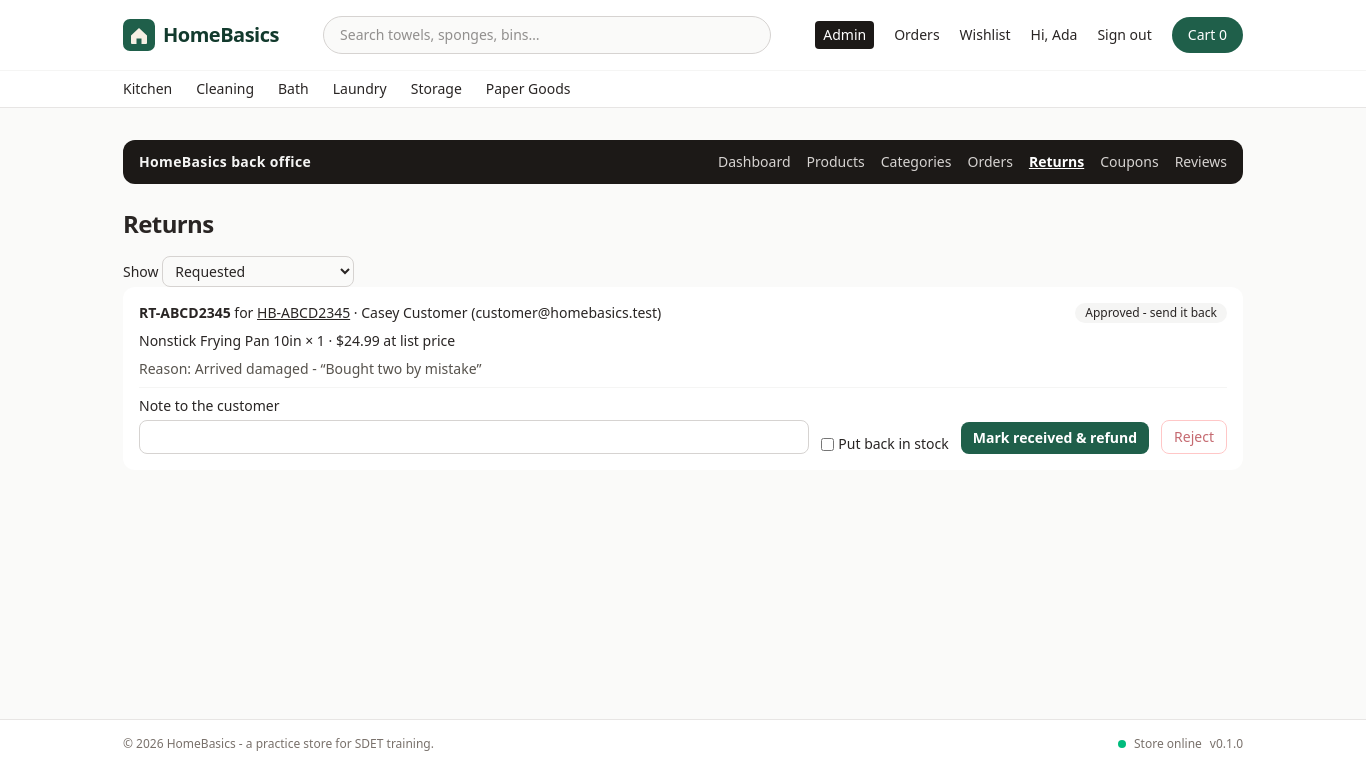
Test: admin returns (ADM-07) › receive an approved return: damaged goods default to not restocked
expect the checkbox with test id "return-restock" is not checked: met, box x1=821 y1=438 x2=834 y2=450
Click the button with test id "return-receive": point(1055, 438) x1=961 y1=422 x2=1149 y2=454
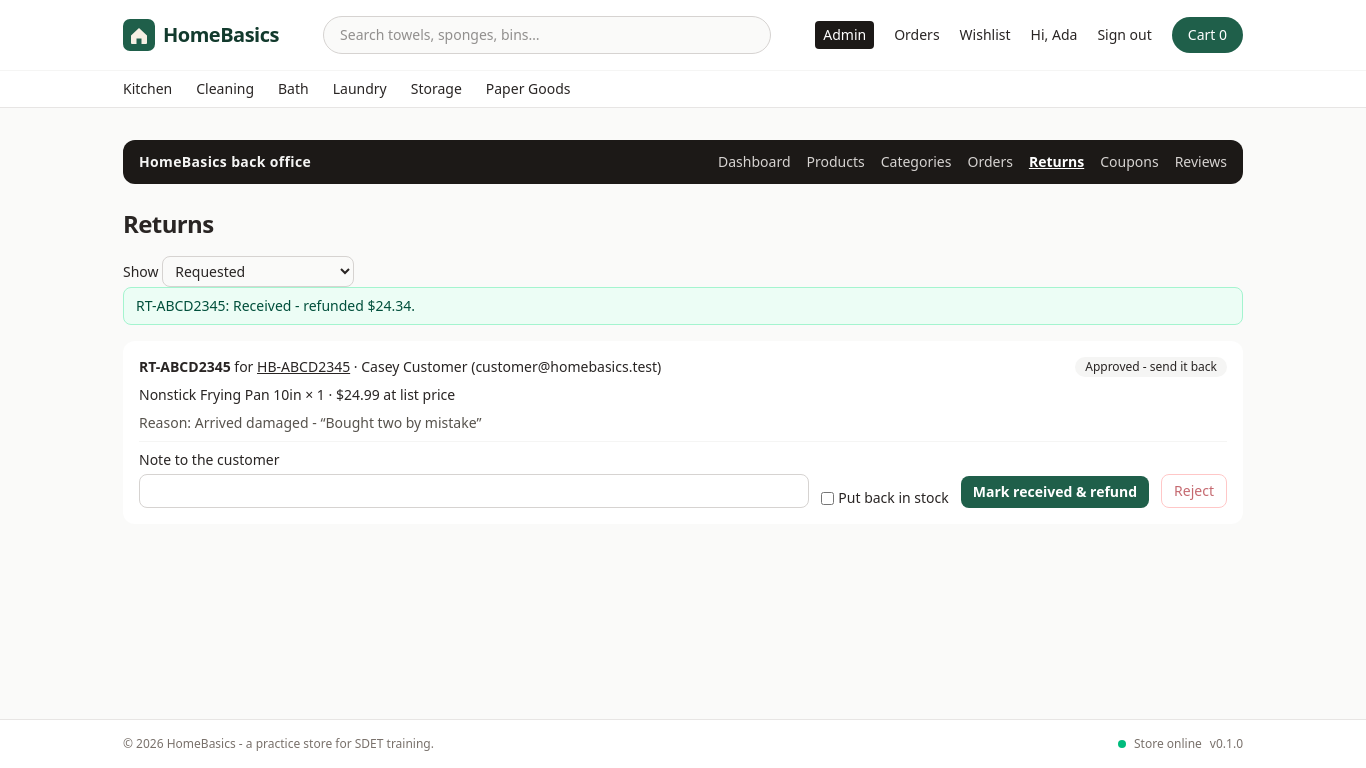
expect the message with test id "admin-returns-done" shows "refunded $24.34": met, box x1=136 y1=296 x2=415 y2=315
